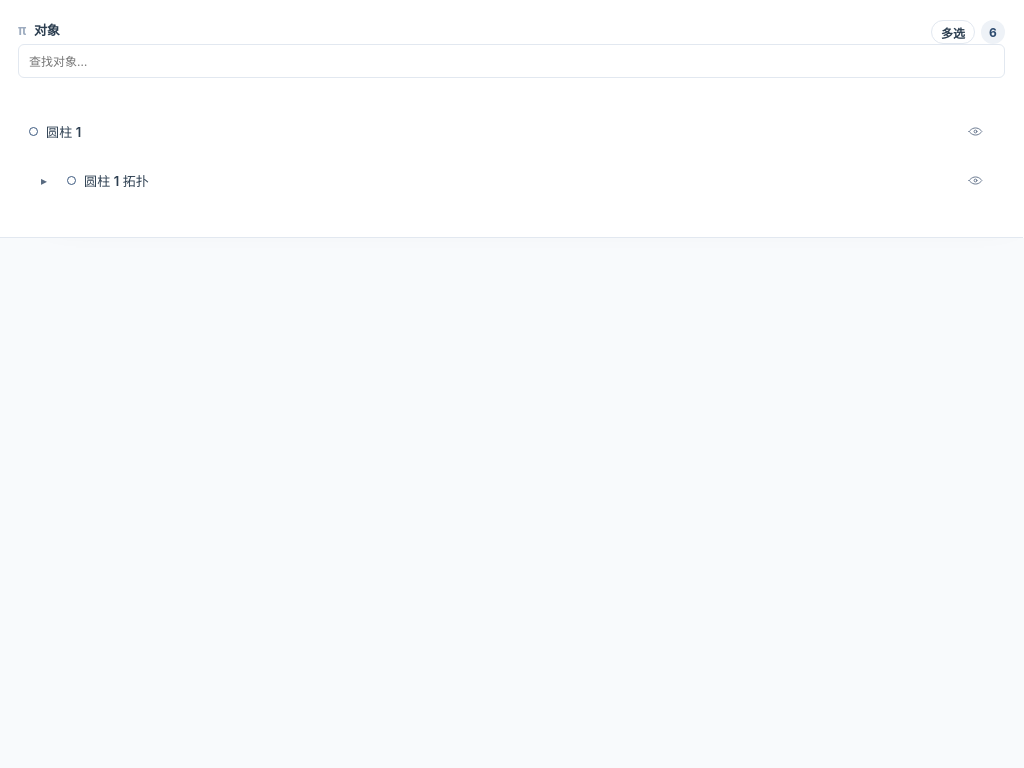
Test: algebra view spatial tree › keeps tessellation vertices of a round solid out of the object list
Click the button named "展开 圆柱 1 拓扑 的子对象". click: [44, 180]
box: [29,165,59,195]
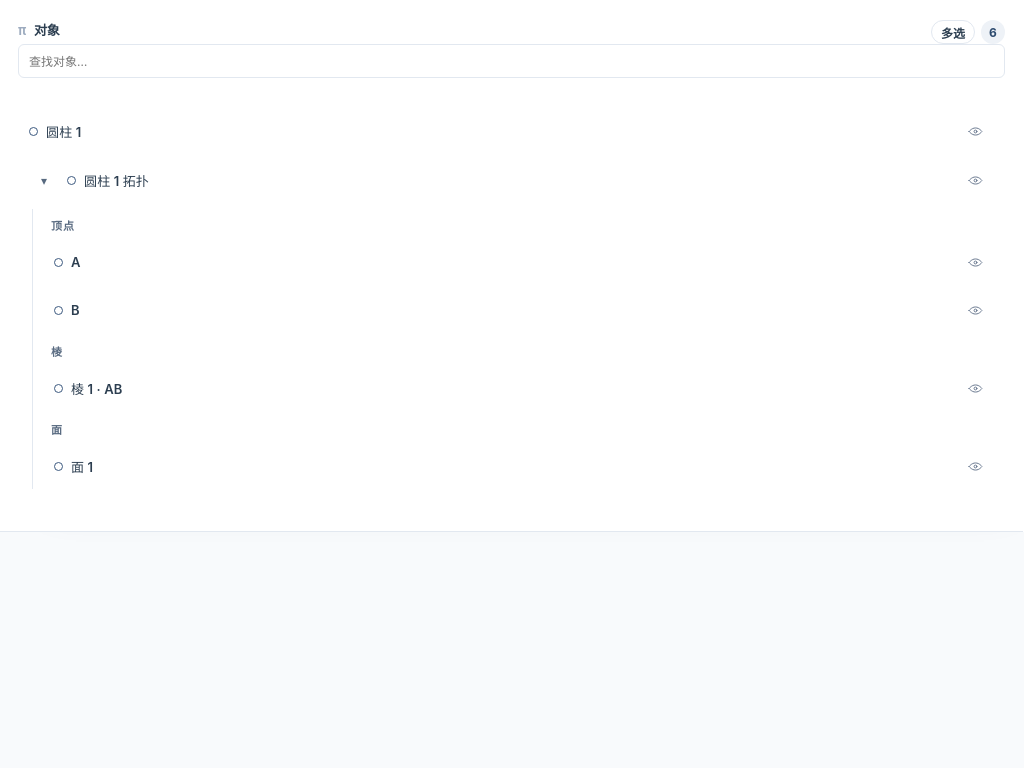
Expected: the text "A" is shown, [71,254,81,270]
Expected: the text "B" is shown, [71,302,80,318]
